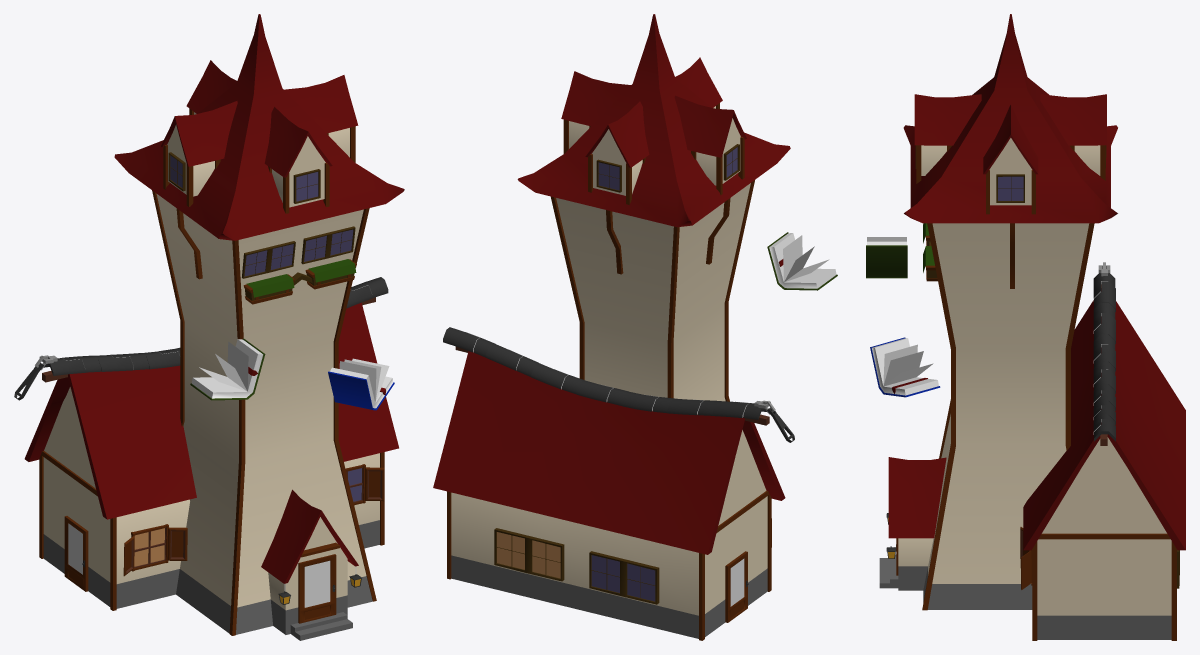
The model's file is HouseVariation.3.fbx.
3 renders of one model, left to right at view 1: azimuth 30°, elevation 25°; view 2: azimuth 150°, elevation 25°; view 3: azimuth 270°, elevation 25°, orthographic. The views are drawn at different scales.
Visible parts, largest first — view 1: Cube.023, Cube.022, Cube.024, Cube.021, Cube.117, Cube.257, Cube.036, Cube.037, Cube.032, Cube.118, Cube.184, Cube.025 (+17 smaller); view 2: Cube.022, Cube.023, Cube.021, Cube.024, Cube.257, Cube.117, Janela.016, Janela.015, Cube.032, Cube.118, Cube.025, Cube.030 (+7 smaller); view 3: Cube.023, Cube.021, Cube.024, Cube.022, Cube.036, Cube.257, Cube.117, Cube.029, Cube.184, Cube.030, Cube.118, Cube.037 (+11 smaller).
Boxes of the visible parts, x1,y1,x2,y2 form: Cube.023: (156, 194, 372, 634); Cube.022: (24, 302, 398, 519); Cube.024: (114, 14, 404, 240); Cube.021: (43, 387, 379, 608); Cube.117: (152, 190, 376, 635); Cube.257: (14, 277, 388, 400); Cube.036: (261, 489, 358, 583); Cube.037: (268, 517, 347, 634); Cube.032: (161, 101, 237, 166); Cube.118: (190, 338, 265, 400); Cube.184: (328, 358, 394, 410); Cube.025: (284, 75, 358, 133); Cube.022: (433, 351, 785, 554); Cube.023: (556, 183, 750, 401); Cube.021: (451, 430, 767, 638); Cube.024: (517, 14, 790, 227); Cube.257: (443, 327, 794, 442); Cube.117: (550, 180, 754, 401); Janela.016: (589, 551, 659, 604); Janela.015: (494, 528, 564, 581); Cube.032: (674, 95, 746, 157); Cube.118: (767, 232, 837, 290); Cube.025: (561, 71, 630, 126); Cube.030: (585, 101, 649, 167); Cube.023: (923, 223, 1089, 609); Cube.021: (1037, 437, 1171, 639); Cube.024: (903, 14, 1117, 223); Cube.022: (1023, 288, 1185, 550); Cube.036: (888, 457, 946, 538); Cube.257: (1093, 262, 1115, 441); Cube.117: (922, 223, 1094, 610); Cube.029: (914, 94, 981, 145); Cube.184: (870, 337, 940, 397); Cube.030: (1040, 94, 1106, 145); Cube.118: (866, 237, 907, 278); Cube.037: (898, 538, 933, 590).
Size of the model in its own units: 1602 by 2381 by 1229.
